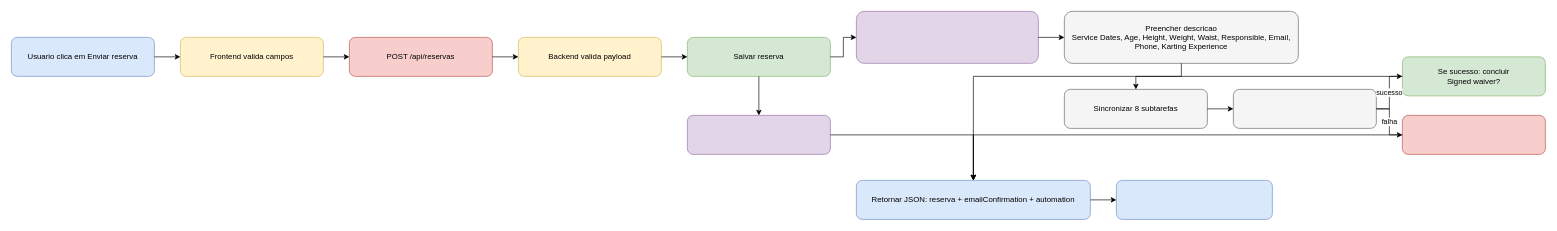
This 1557x231 diagram has some shape labels left out. Each missing label, with the centre of its shape:
Criar tarefa Asana via template Session Setup [DRIVER + SERVICE]: [947,37]
Disparar webhook DocuSign: [1304,108]
Enviar email SMTP: [758,134]
Frontend mostra feedback final: [1194,199]
Se falha: comentar acao manual no Asana: [1473,134]
